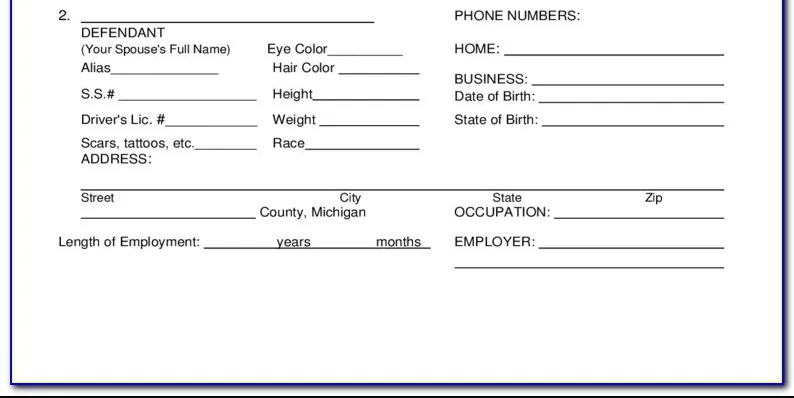textline: (78, 175, 726, 191), (452, 254, 725, 272), (78, 9, 378, 25), (199, 232, 433, 251), (531, 68, 726, 87), (551, 202, 727, 222), (500, 42, 728, 57), (539, 232, 728, 250), (77, 203, 259, 221), (537, 88, 727, 105), (539, 112, 729, 129), (117, 87, 258, 103), (302, 135, 422, 152), (309, 84, 421, 102), (108, 60, 220, 77), (318, 112, 422, 128), (163, 112, 259, 128), (336, 59, 422, 76), (191, 135, 260, 152), (323, 41, 401, 55)
